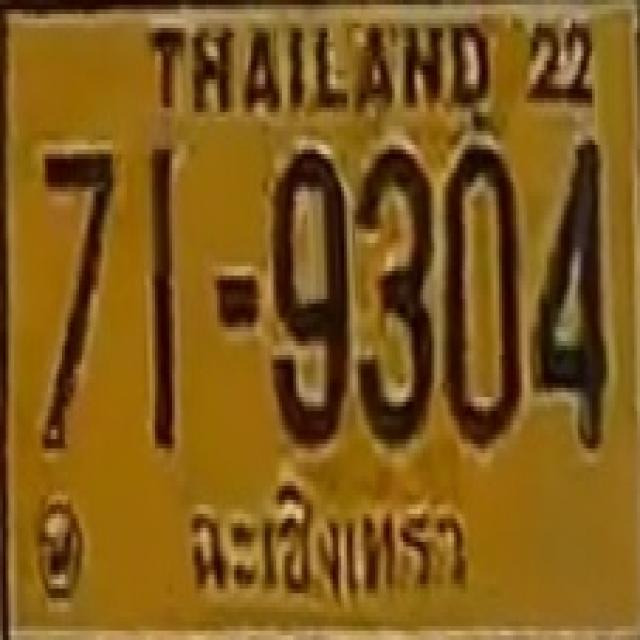0: (442, 140, 518, 444)
1: (149, 145, 175, 448)
3: (356, 145, 432, 444)
4: (533, 135, 606, 444)
7: (41, 150, 114, 448), (42, 150, 113, 360)
9: (270, 145, 346, 444)
CCO: (185, 474, 474, 620)
